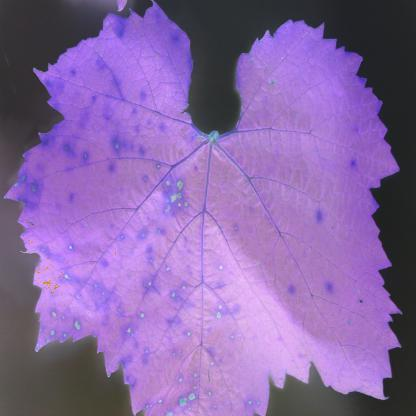grape leaf: (8, 2, 396, 416)
